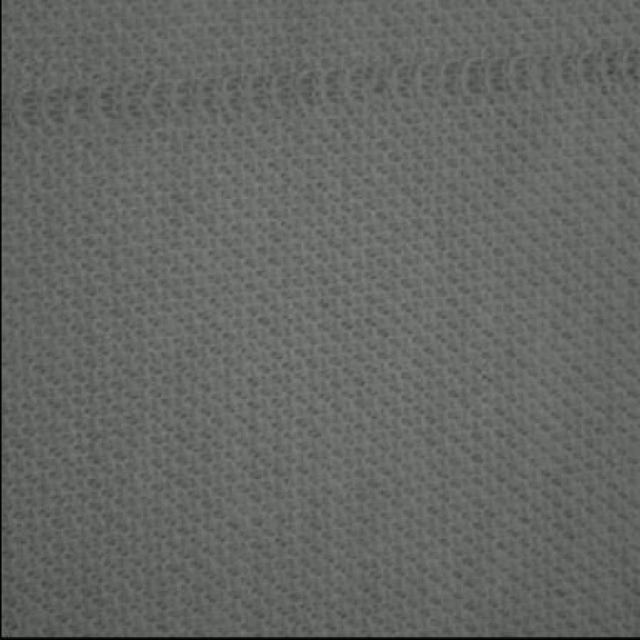Line: (6, 46, 639, 131)
